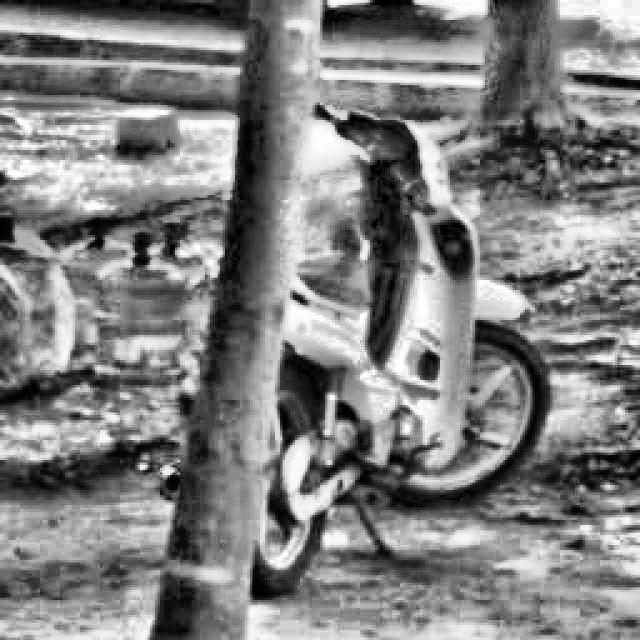motorcycle: (237, 92, 547, 598)
